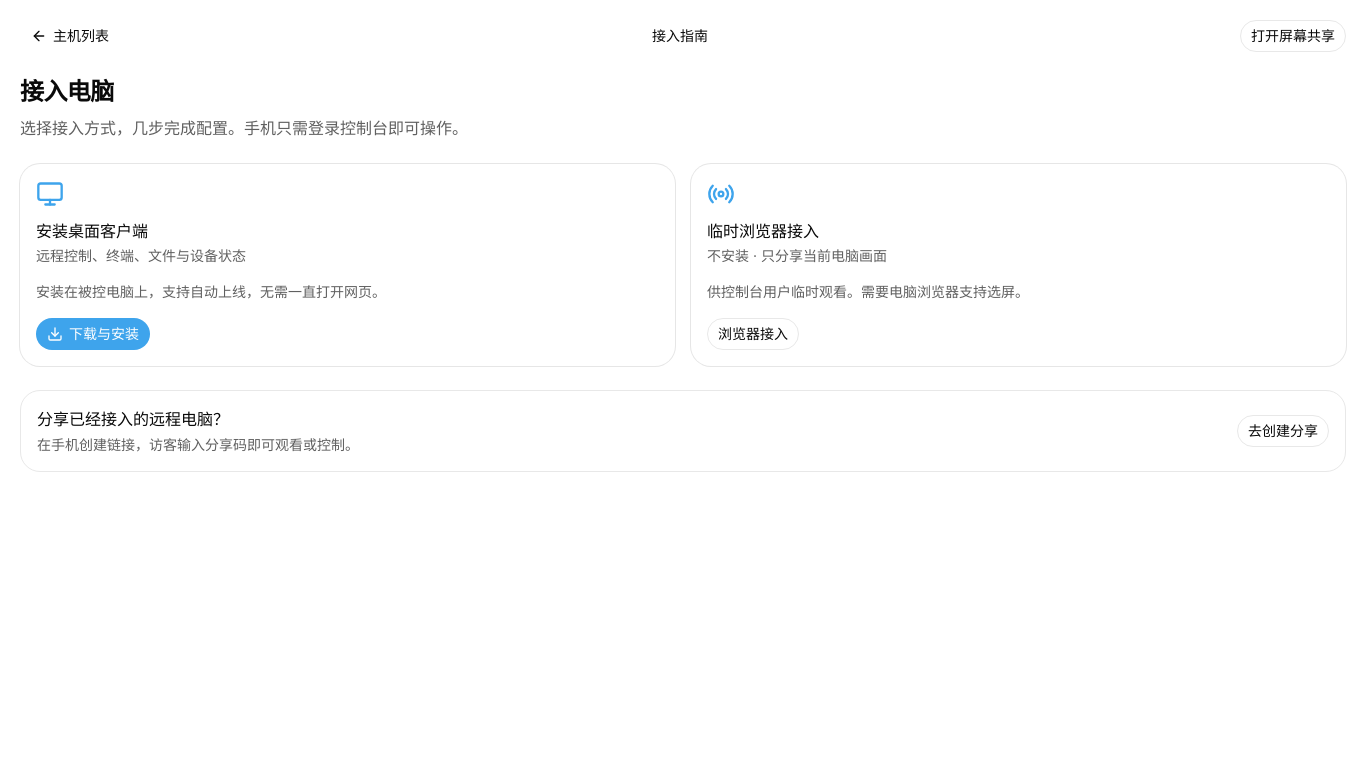
Test: canceled browser picker gives a visible explanation and can be retried
The image size is (1366, 768).
Click the button "浏览器接入" at (753, 334), box [707,318,799,350]
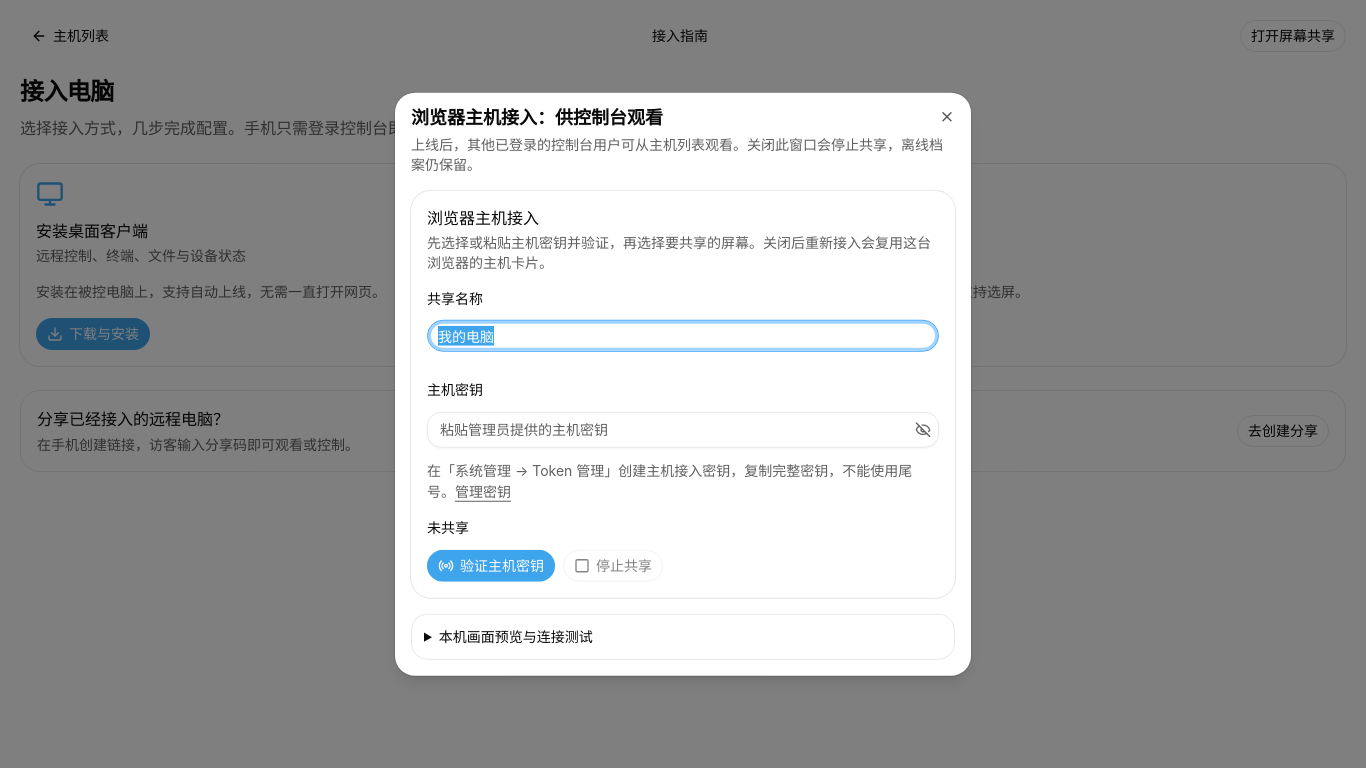
Type "test-host-token" into the password field labelled "主机密钥" at (683, 429), box [427,411,939,447]
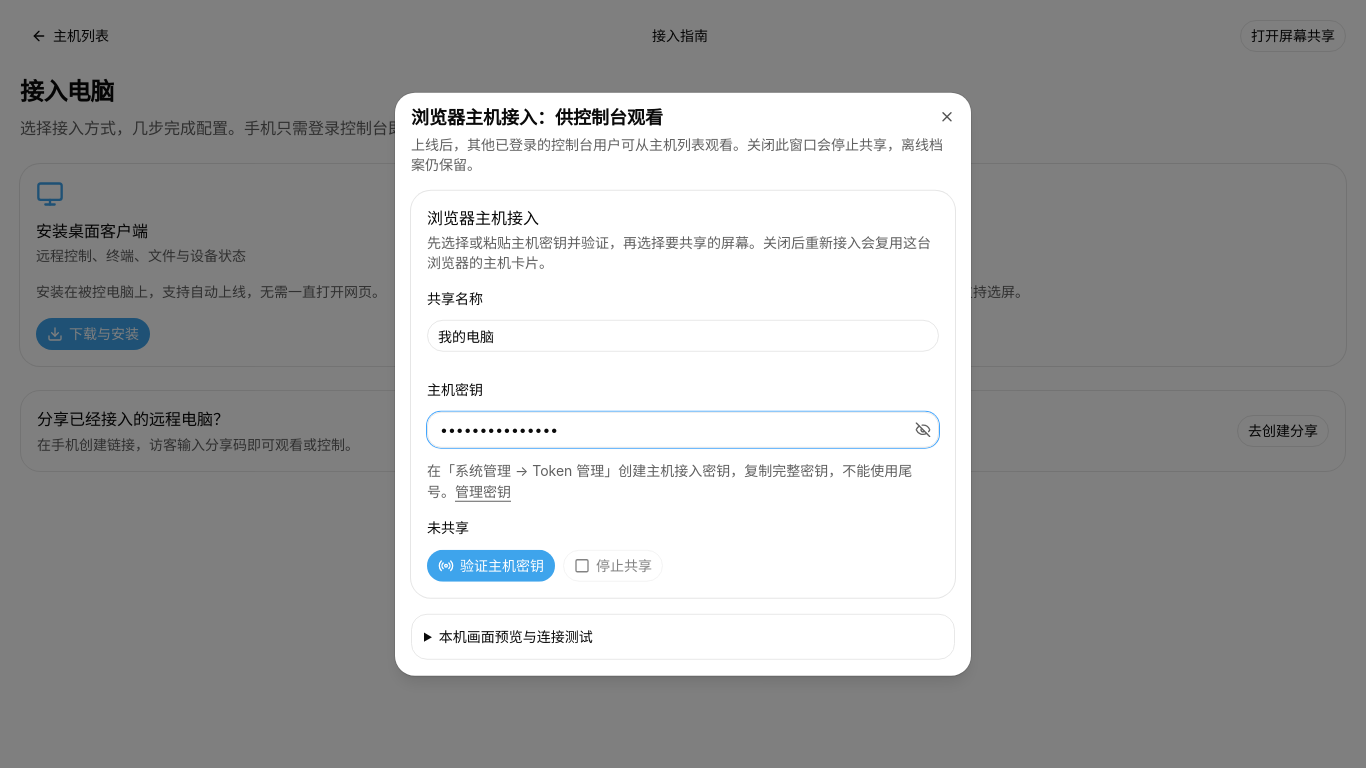
Click the button "验证主机密钥" at (491, 565), box [427,549,555,581]
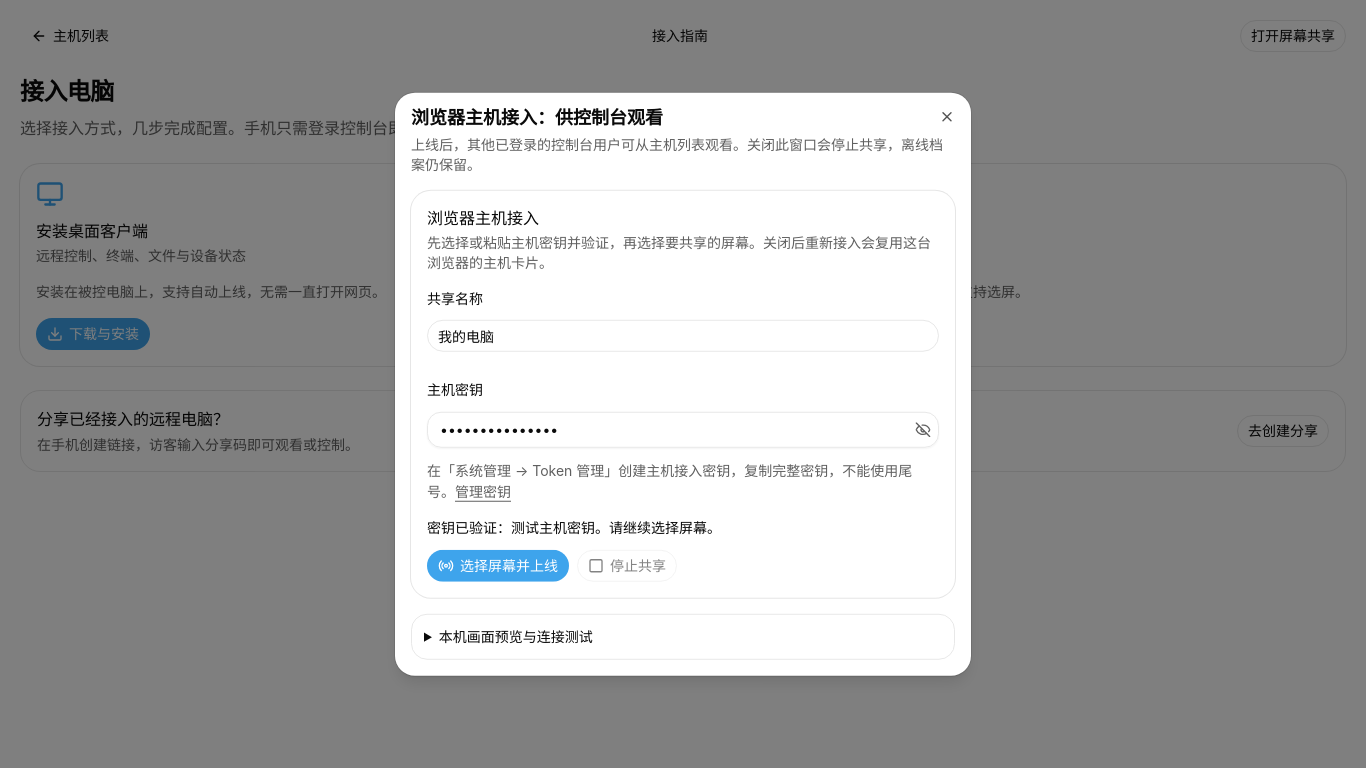
Click the button "选择屏幕并上线" at (498, 565), box [427,549,569,581]
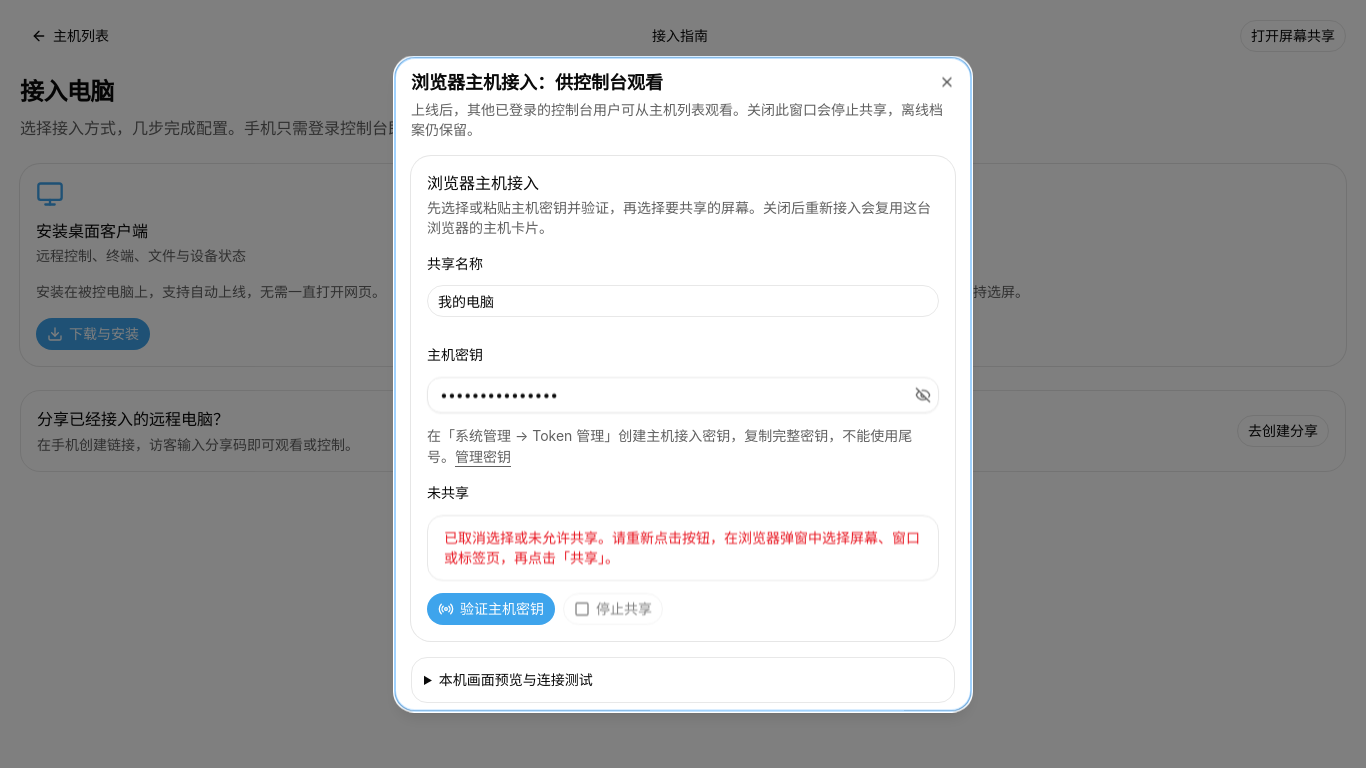
expect the button "验证主机密钥" is enabled: met, box [427,592,555,624]
expect the text "已取消选择或未允许共享。请重新点击按钮，在浏览器弹窗中选择屏幕、窗口或标签页，再点击「共享」。" is shown: met, box [444,527,922,567]
